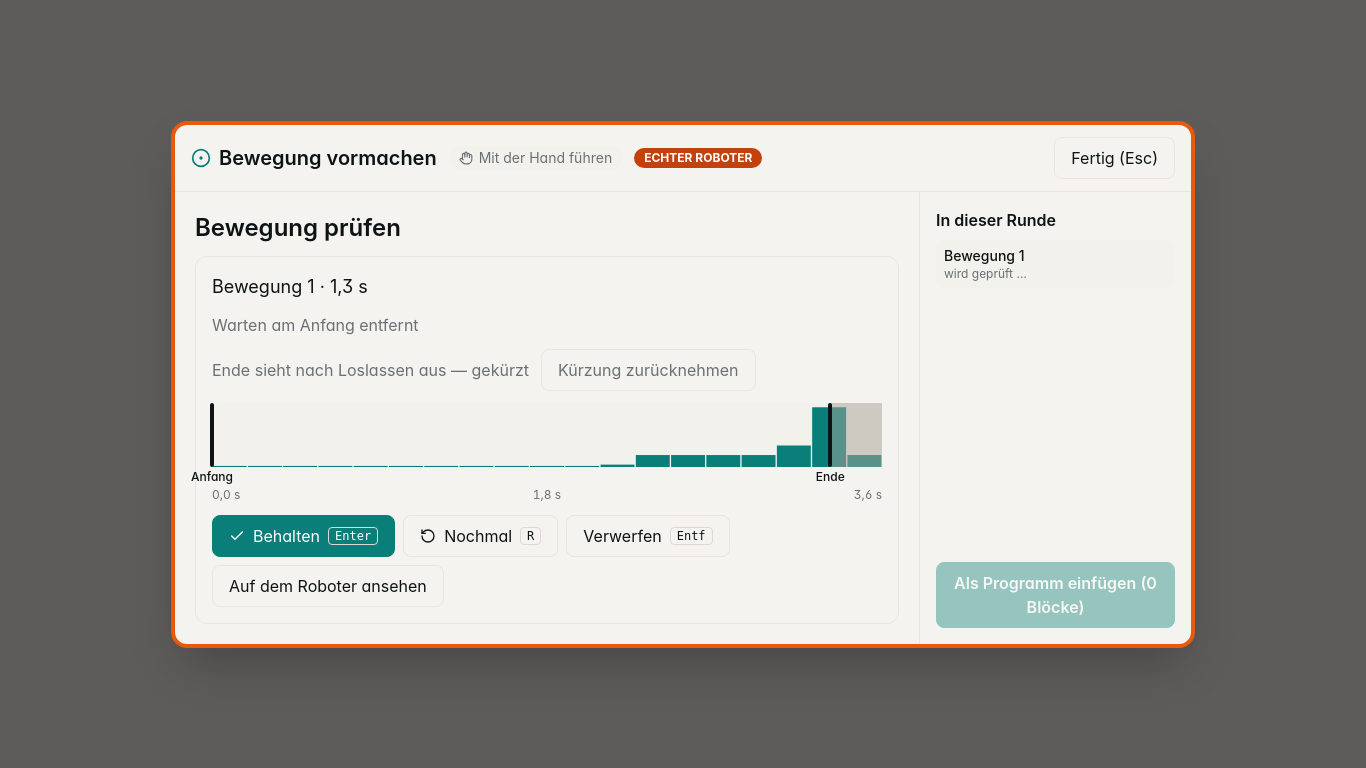
TeachOverlay — review clean-up (trims with undo, cleaned rows kept and previewed) › the notes name both trims; „Kürzung zurücknehmen" restores the end and a keep then stores it all
Expected: the text "Warten am Anfang entfernt" is shown, [212, 314, 419, 334]
Expected: the text "Ende sieht nach Loslassen aus — gekürzt" is shown, [212, 358, 529, 382]
Click the button "Kürzung zurücknehmen". click: (648, 370)
box: [541, 348, 756, 390]
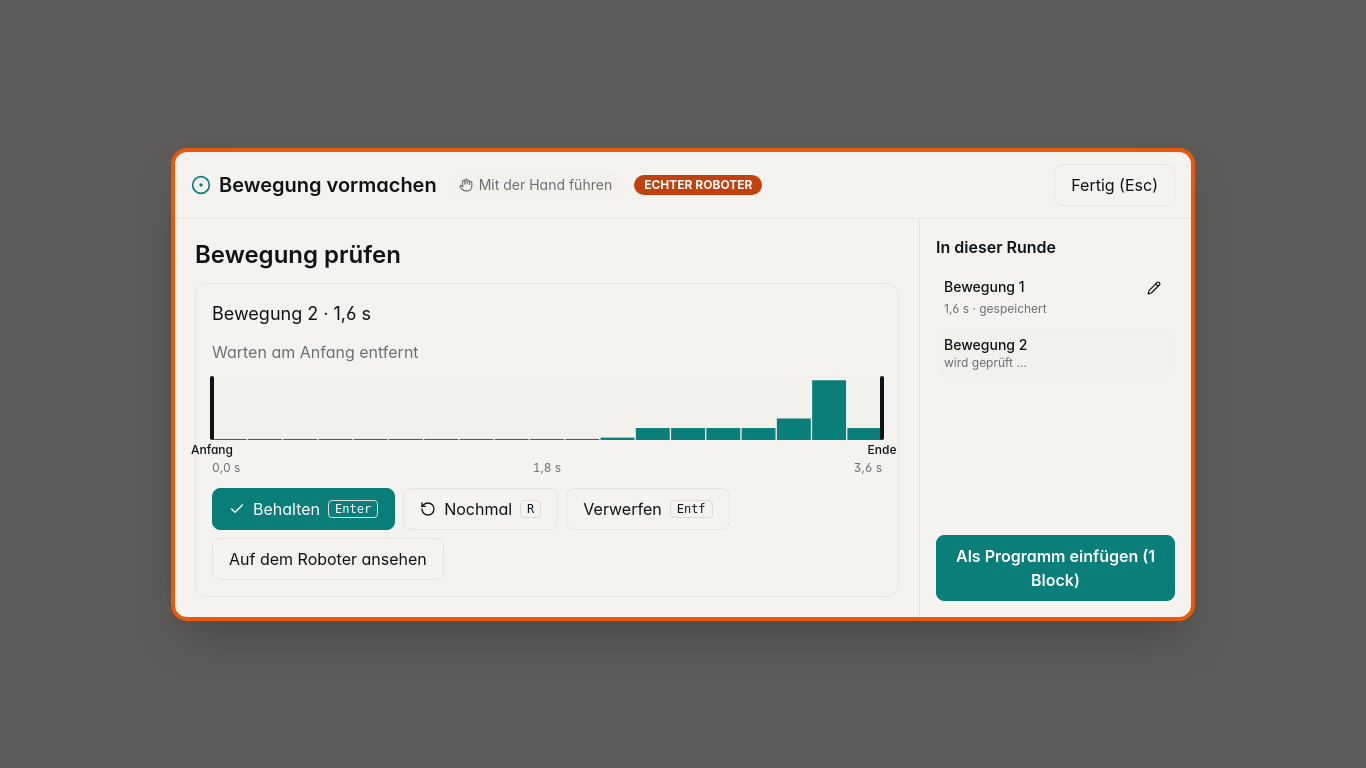
Expected: the text "Warten am Anfang entfernt" is shown, [212, 342, 419, 362]
Now the text "Ende sieht nach Loslassen aus — gekürzt" is gone
